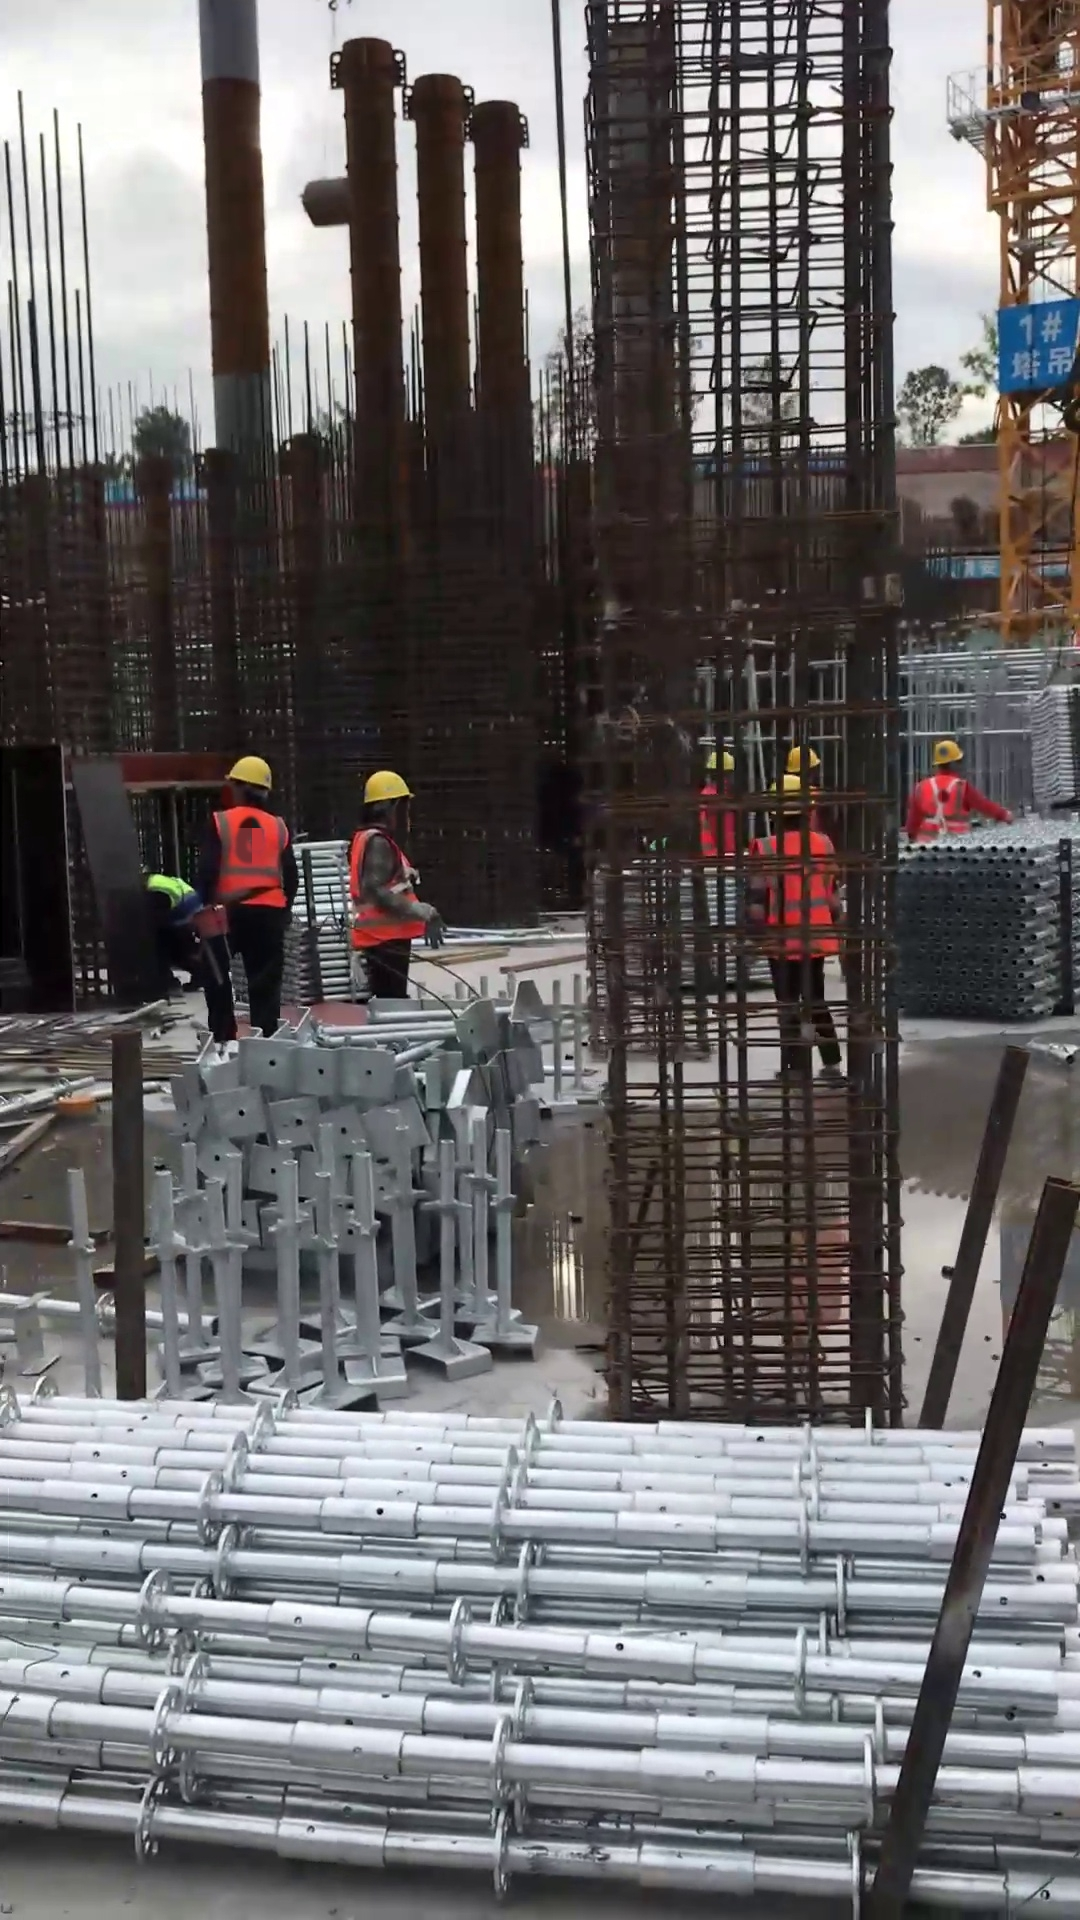helmet: (360, 766, 416, 814), (222, 751, 276, 799), (765, 772, 813, 819), (927, 737, 964, 766), (784, 744, 822, 772), (704, 746, 737, 774)
person: (742, 771, 848, 1090), (191, 752, 303, 1040), (343, 768, 451, 1000), (902, 737, 1015, 841), (697, 747, 743, 861)
vest: (747, 828, 841, 961), (348, 826, 428, 954), (212, 803, 290, 910), (909, 770, 972, 840), (144, 872, 205, 930), (697, 780, 735, 857)
